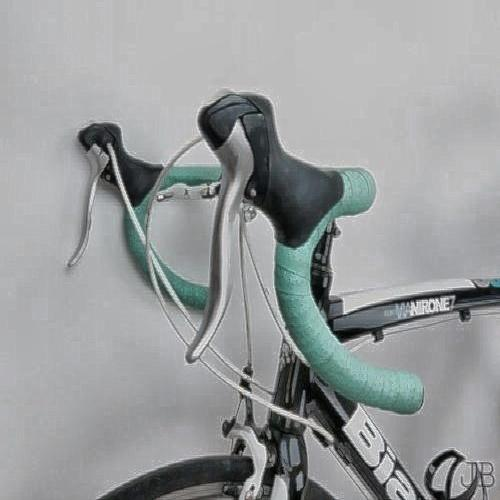bicycle: (87, 97, 478, 484)
